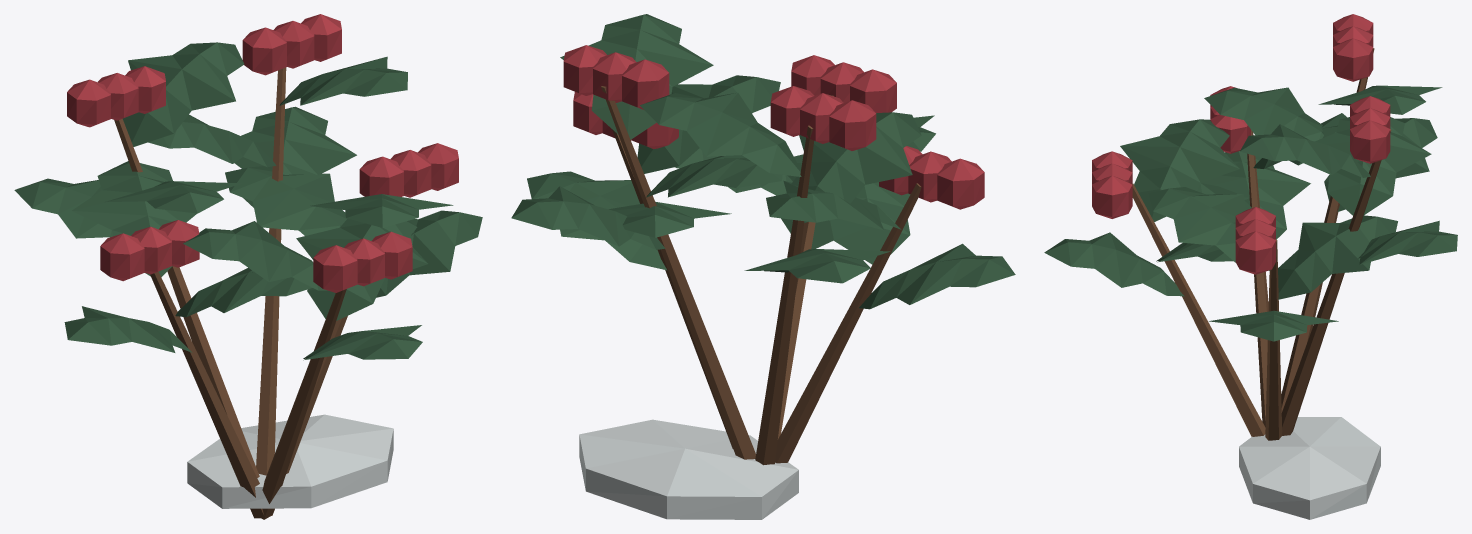
Rendered from flower_winter_b.glb.
3 renders of one model, left to right at view 1: azimuth 30°, elevation 25°; view 2: azimuth 150°, elevation 25°; view 3: azimuth 270°, elevation 25°, orthographic. The views are drawn at different scales.
Visible parts, largest first — view 1: plant; view 2: plant; view 3: plant.
Part boxes in pixels (x1,y1,x2,y2): plant: (14,14,482,519); plant: (511,14,1015,519); plant: (1044,14,1457,519).
Bounding box in the file's own units: 0.3671 × 0.35 × 0.3319.
